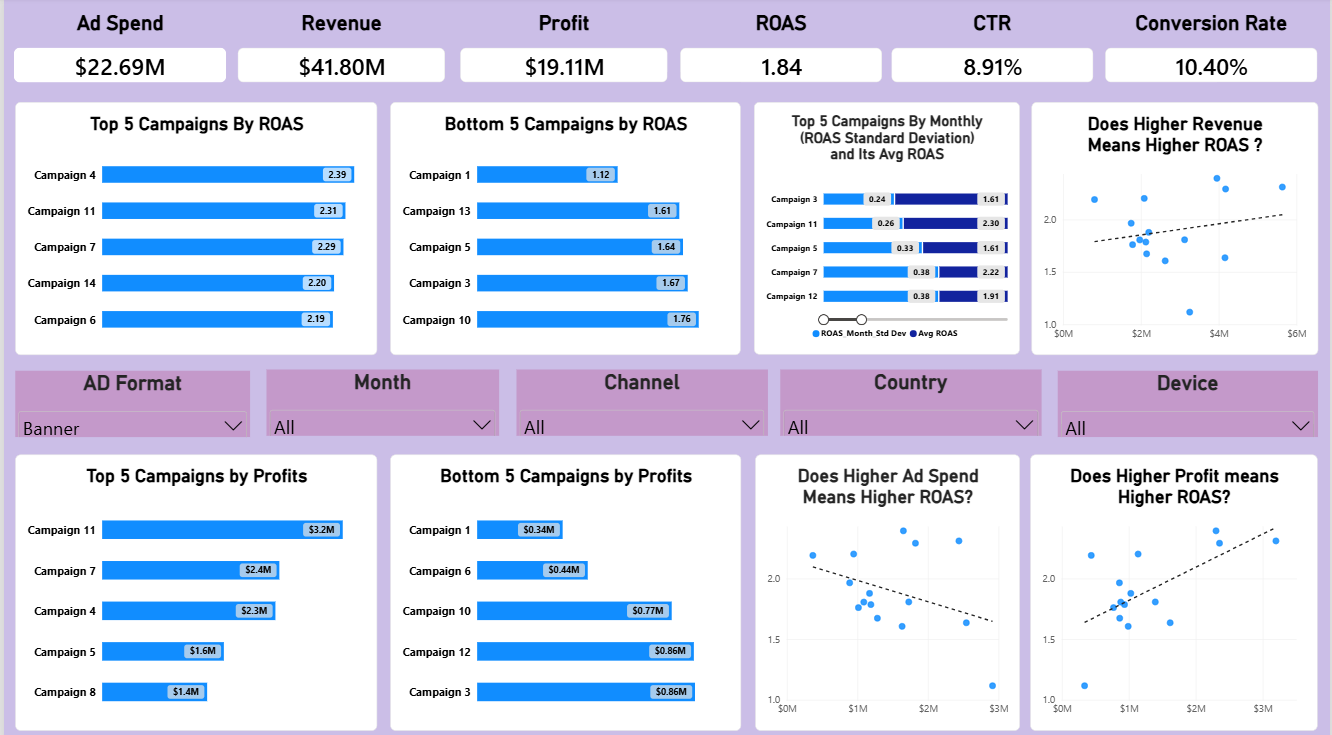

The dashboard page shown, as its layout file describes it:
{"tool":"powerbi","page":{"name":"Page 2","canvas":[1920,1080],"ordinal":1},"visuals":[{"type":"cardVisual","title":"Ad Spend","fields":{"Data":["Sum(Raw_Data (2).Ad_Spend_USD)"]},"box":[15.1,19.5,307.3,103.9],"z":0},{"type":"cardVisual","title":"Revenue","fields":{"Data":["Sum(Raw_Data (2).Revenue_USD)"]},"box":[337.6,19.5,300.8,103.9],"z":1000},{"type":"cardVisual","title":"CTR","fields":{"Data":["Raw_Data (2).CTR"]},"box":[1285.5,19.5,292.2,103.9],"z":2000},{"type":"cardVisual","title":"Conversion Rate","fields":{"Data":["Raw_Data (2).Conversion Rate"]},"box":[1595,19.5,307.3,103.9],"z":3000},{"type":"cardVisual","title":"ROAS","fields":{"Data":["Raw_Data (2).ROAS"]},"box":[978.2,19.5,292.2,103.9],"z":4000},{"type":"cardVisual","title":"Profit","fields":{"Data":["Raw_Data (2).Profit"]},"box":[660.1,19.5,300.8,103.9],"z":5000},{"type":"barChart","title":"Top 5 Campaigns By ROAS","fields":{"Category":["Raw_Data (2).Campaign_Name"],"Y":["Raw_Data (2).ROAS"]},"box":[16.7,151.9,524.1,366.7],"z":6000},{"type":"barChart","title":"Bottom 5 Campaigns by ROAS","fields":{"Category":["Raw_Data (2).Campaign_Name"],"Y":["Raw_Data (2).ROAS"]},"box":[559.3,151.9,507.4,366.7],"z":7000},{"type":"scatterChart","title":"Does Higher Revenue Means Higher ROAS ?","fields":{"Category":["Raw_Data (2).Campaign_Name"],"X":["Sum(Raw_Data (2).Revenue_USD)"],"Y":["Raw_Data (2).ROAS"]},"box":[1486.8,151.5,414.8,366.7],"z":8000},{"type":"barChart","title":"Top 5 Campaigns by Profits","fields":{"Category":["Raw_Data (2).Campaign_Name"],"Y":["Raw_Data (2).Profit"]},"box":[16.2,662.2,524.3,400],"z":9000},{"type":"barChart","title":"Bottom 5 Campaigns by Profits","fields":{"Category":["Raw_Data (2).Campaign_Name"],"Y":["Raw_Data (2).Profit"]},"box":[559.5,662.2,508.1,400],"z":10000},{"type":"scatterChart","title":"Does Higher Profit means Higher ROAS?","fields":{"Category":["Raw_Data (2).Campaign_Name"],"X":["Raw_Data (2).Profit"],"Y":["Raw_Data (2).ROAS"]},"box":[1486.5,662.2,416.2,400],"z":11000},{"type":"slicer","title":"AD Format","fields":{"Values":["Raw_Data (2).Ad_Format"]},"box":[16.3,541.1,340.2,95.9],"z":12000},{"type":"slicer","title":"Channel","fields":{"Values":["Raw_Data (2).Channel"]},"box":[742,539.3,363.7,95.9],"z":13000},{"type":"slicer","title":"Country","fields":{"Values":["Raw_Data (2).Country"]},"box":[1123.8,539.3,378.2,95.9],"z":14000},{"type":"slicer","title":"Device","fields":{"Values":["Raw_Data (2).Device"]},"box":[1525.5,541.1,376.4,95.9],"z":15000},{"type":"scatterChart","title":"Does Higher Ad Spend Means Higher ROAS?","fields":{"Category":["Raw_Data (2).Campaign_Name"],"X":["Sum(Raw_Data (2).Ad_Spend_USD)"],"Y":["Raw_Data (2).ROAS"]},"box":[1087,663,383.3,400],"z":16000},{"type":"barChart","title":"Top 5 Campaigns By Monthly (ROAS Standard Deviation) and Its Avg ROAS","fields":{"Category":["Raw_Data (2).Campaign_Name"],"Y":["Raw_Data (2).ROAS_Month_Std Dev","Raw_Data (2).Avg ROAS"]},"box":[1086.6,152.2,384.4,365.7],"z":17000},{"type":"slicer","title":"Month","fields":{"Values":["Raw_Data (2).Date.Variation.Date Hierarchy.Month"]},"box":[380,539.3,336.6,95.9],"z":17001}]}

Visuals, with their boxes in screenshot pixels (x1, y1, x2, y2), scaled from the page's 1920x1080 canvas onto the 1332x735 screenshot:
"Ad Spend" cardVisual: x1=10, y1=13, x2=224, y2=84
"Revenue" cardVisual: x1=234, y1=13, x2=443, y2=84
"CTR" cardVisual: x1=892, y1=13, x2=1095, y2=84
"Conversion Rate" cardVisual: x1=1107, y1=13, x2=1320, y2=84
"ROAS" cardVisual: x1=679, y1=13, x2=881, y2=84
"Profit" cardVisual: x1=458, y1=13, x2=667, y2=84
"Top 5 Campaigns By ROAS" barChart: x1=12, y1=103, x2=375, y2=353
"Bottom 5 Campaigns by ROAS" barChart: x1=388, y1=103, x2=740, y2=353
"Does Higher Revenue Means Higher ROAS ?" scatterChart: x1=1031, y1=103, x2=1319, y2=353
"Top 5 Campaigns by Profits" barChart: x1=11, y1=451, x2=375, y2=723
"Bottom 5 Campaigns by Profits" barChart: x1=388, y1=451, x2=741, y2=723
"Does Higher Profit means Higher ROAS?" scatterChart: x1=1031, y1=451, x2=1320, y2=723
"AD Format" slicer: x1=11, y1=368, x2=247, y2=434
"Channel" slicer: x1=515, y1=367, x2=767, y2=432
"Country" slicer: x1=780, y1=367, x2=1042, y2=432
"Device" slicer: x1=1058, y1=368, x2=1319, y2=434
"Does Higher Ad Spend Means Higher ROAS?" scatterChart: x1=754, y1=451, x2=1020, y2=723
"Top 5 Campaigns By Monthly (ROAS Standard Deviation) and Its Avg ROAS" barChart: x1=754, y1=104, x2=1021, y2=352
"Month" slicer: x1=264, y1=367, x2=497, y2=432
